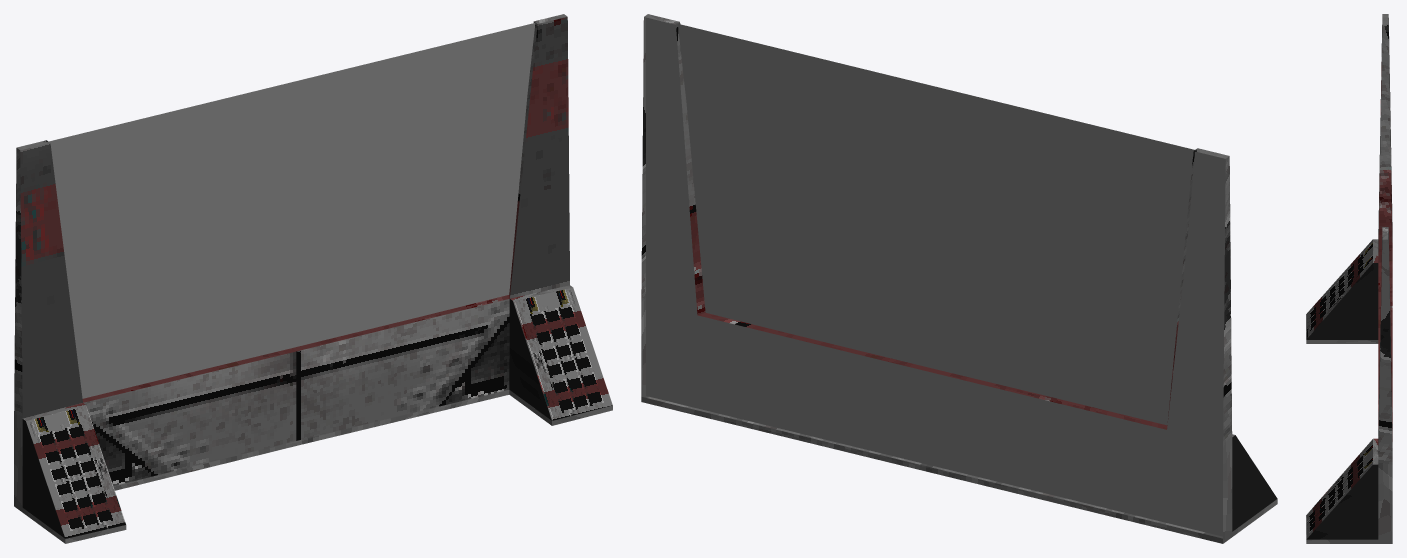
File: wall01.gltf
The picture shows the model from 3 angles, left to right: view 1: azimuth 30°, elevation 25°; view 2: azimuth 150°, elevation 25°; view 3: azimuth 270°, elevation 25°; orthographic projection. The views are drawn at different scales.
Parts seen in each view (by area): view 1: wall, frame; view 2: wall, frame; view 3: frame.
Boxes of the visible parts, bbox=[...] form: wall: bbox=[49, 23, 535, 398]; frame: bbox=[14, 14, 612, 543]; wall: bbox=[646, 17, 1225, 536]; frame: bbox=[641, 14, 1277, 543]; frame: bbox=[1306, 14, 1392, 543].
Bounding box in the file's own units: 4.01 × 2.53 × 0.6501.
2 materials, 1 textured.
